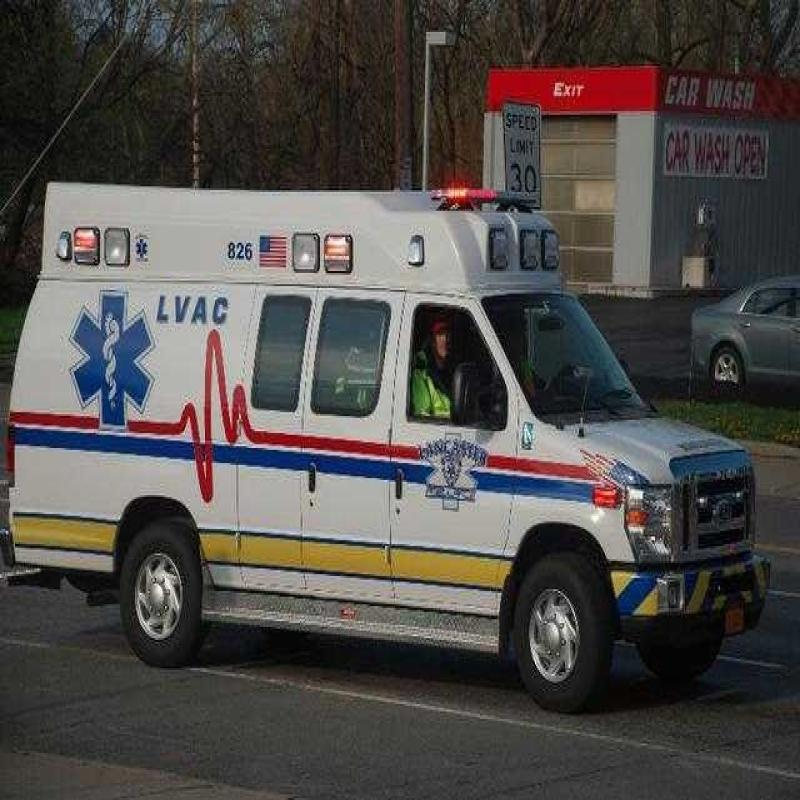AmbulanceSiren: (422, 170, 550, 218)
